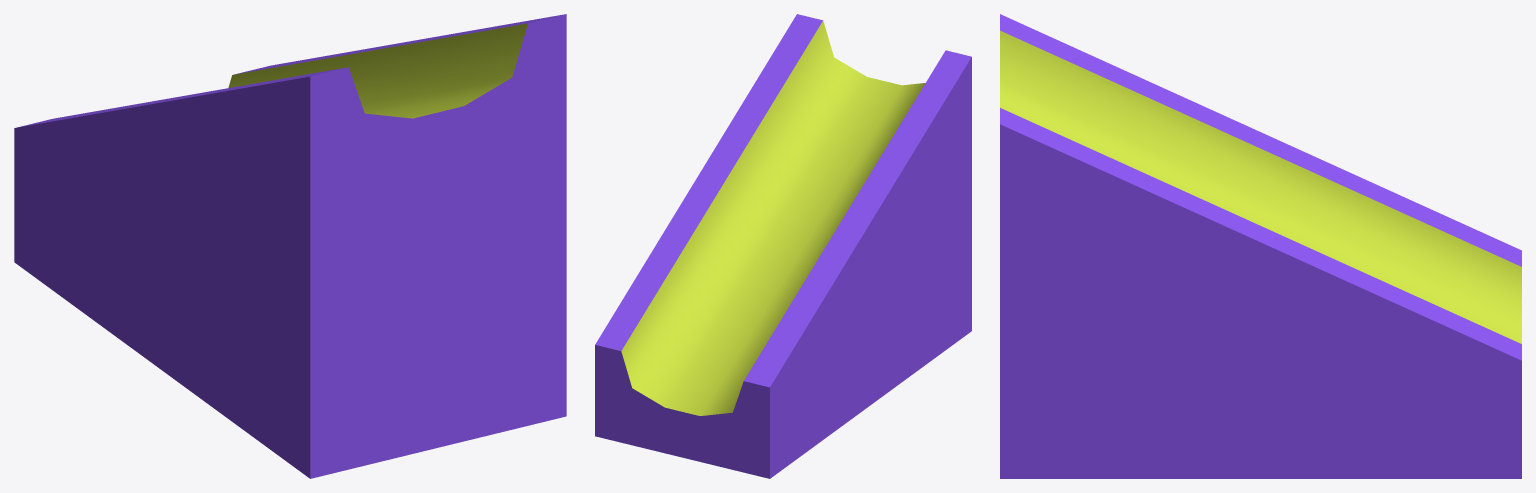
File: slant_solid_long_C.fbx
The picture shows the model from 3 angles, left to right: view 1: azimuth 30°, elevation 25°; view 2: azimuth 150°, elevation 25°; view 3: azimuth 270°, elevation 25°; orthographic projection. The views are drawn at different scales.
Parts seen in each view (by area): view 1: slant_solid_long_C; view 2: slant_solid_long_C; view 3: slant_solid_long_C.
Boxes of the visible parts, box(x1,y1,x2,y2) form: slant_solid_long_C: box(14, 14, 566, 478); slant_solid_long_C: box(595, 14, 971, 478); slant_solid_long_C: box(1000, 14, 1521, 478).
Size of the model in its own units: 10 by 15 by 20.
